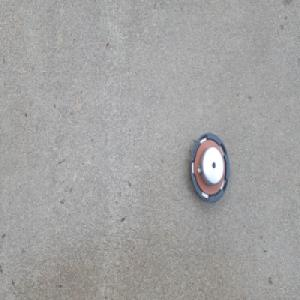FuelCap: (186, 129, 230, 205)
